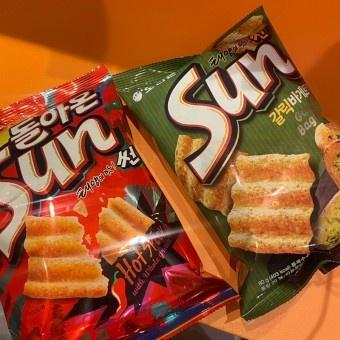snack: (111, 4, 340, 322), (0, 66, 243, 340)
